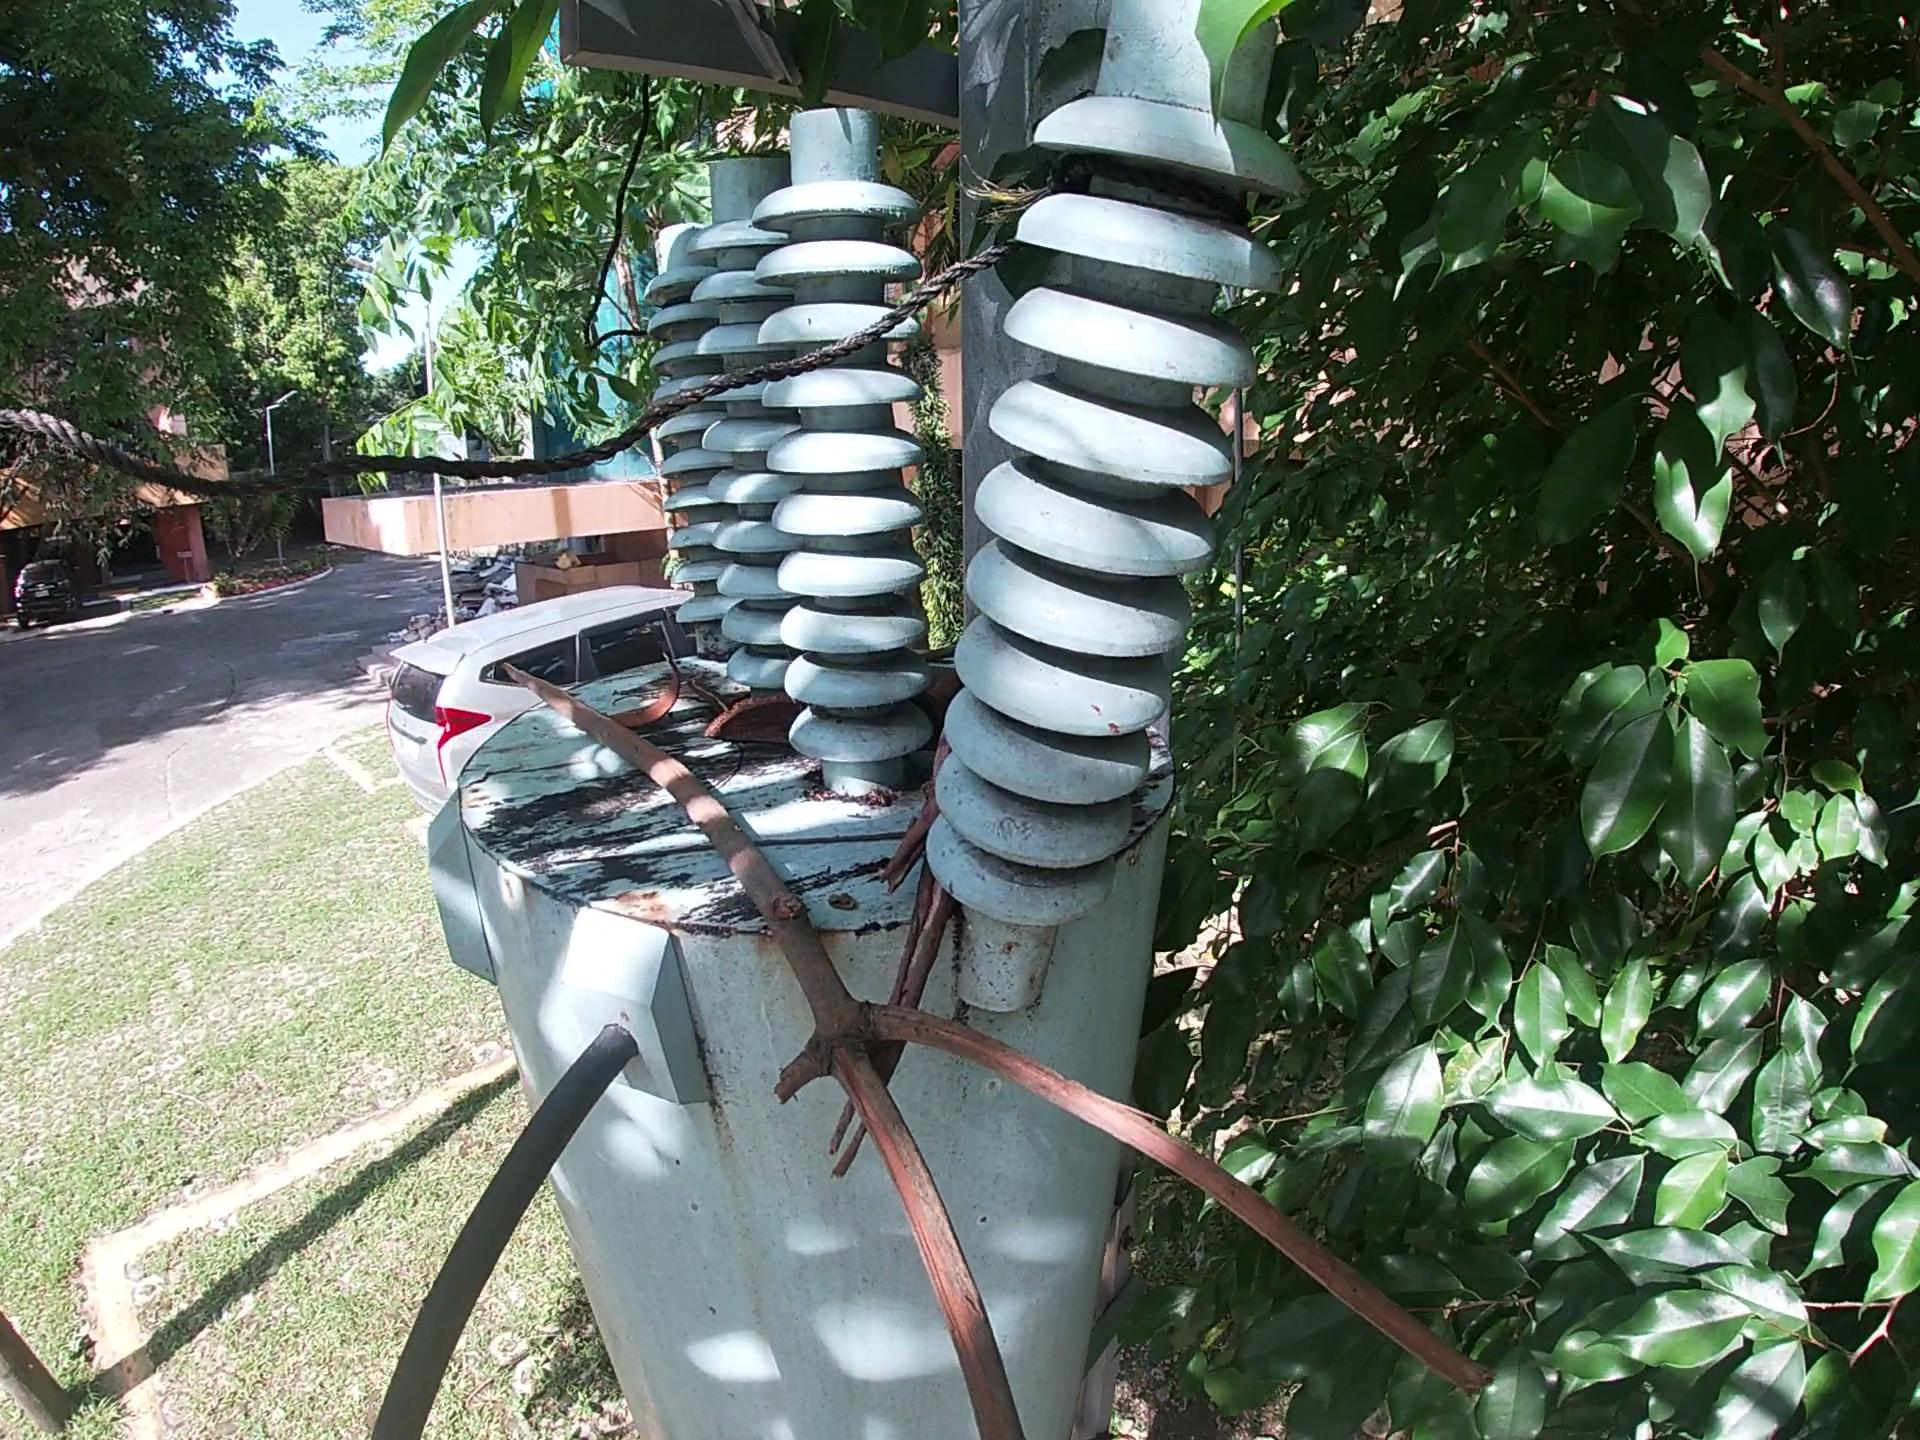mahogany fruit: (615, 656, 689, 728), (703, 700, 800, 750)
tree branch: (497, 663, 1515, 1428), (841, 892, 968, 1180), (875, 794, 946, 889), (751, 818, 913, 855), (918, 650, 963, 705), (686, 669, 732, 717)
